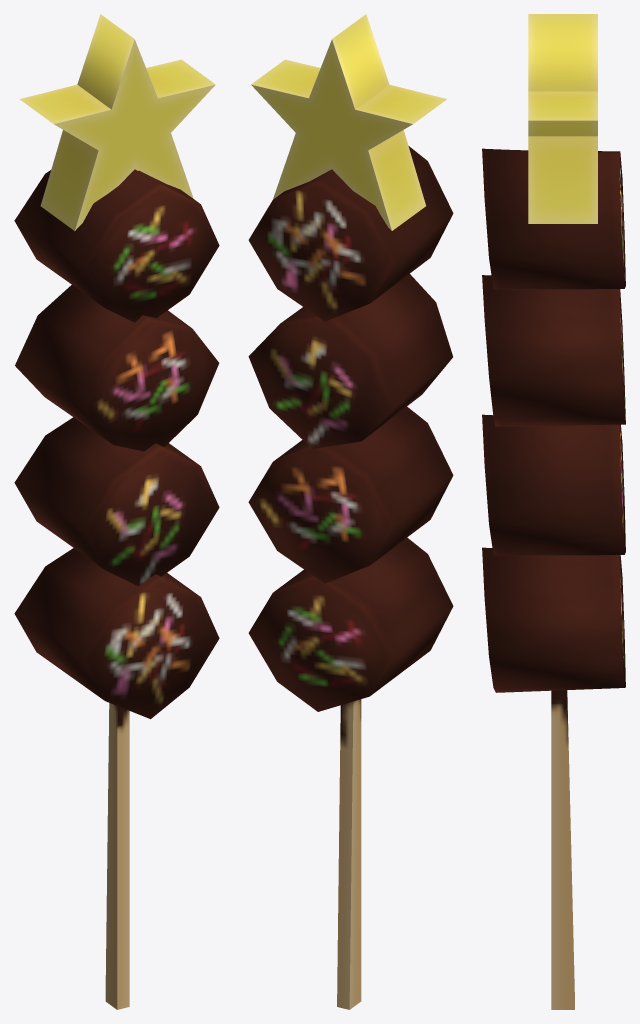
Rendered from jsf_ChocolateBanana_b04_c01.fbx.
3 renders of one model, left to right at view 1: azimuth 30°, elevation 25°; view 2: azimuth 150°, elevation 25°; view 3: azimuth 270°, elevation 25°, orthographic.
Parts seen in each view (by area): view 1: jsf_ChocolateBanana_b04_c01; view 2: jsf_ChocolateBanana_b04_c01; view 3: jsf_ChocolateBanana_b04_c01.
Part boxes in pixels (x1=…): jsf_ChocolateBanana_b04_c01: x1=14, y1=14, x2=219, y2=1009; jsf_ChocolateBanana_b04_c01: x1=248, y1=14, x2=453, y2=1009; jsf_ChocolateBanana_b04_c01: x1=482, y1=14, x2=625, y2=1009.
Bounding box in the file's own units: 4.51 × 25.95 × 3.41.
